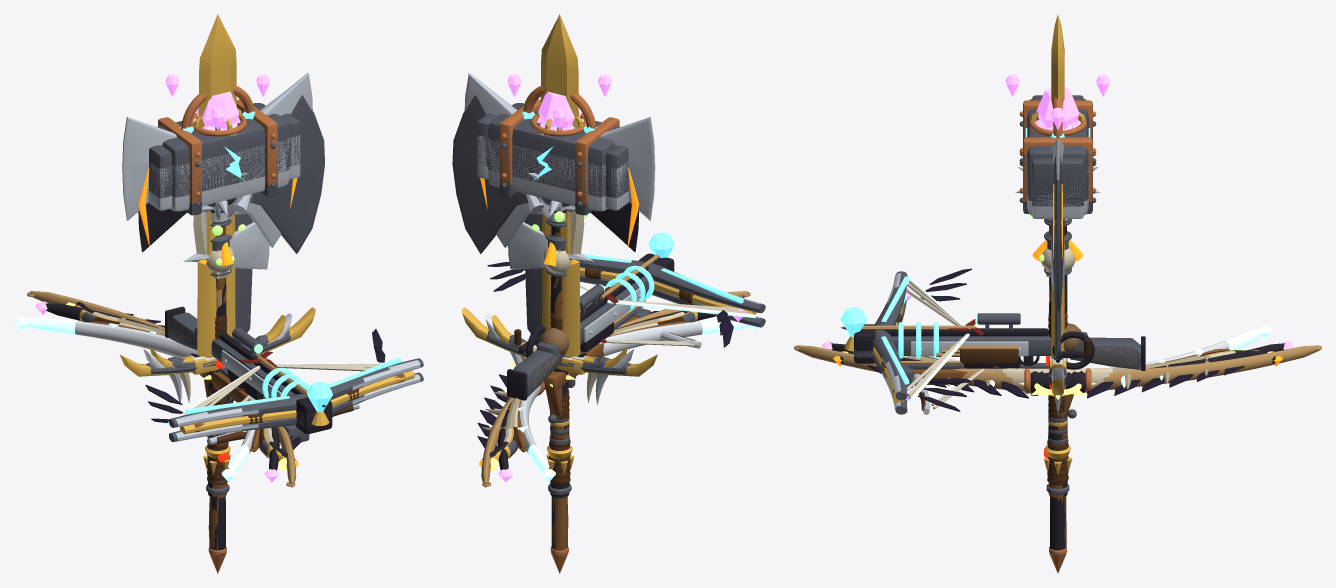
File: forge_weapons-BihwmM35.glb
3 views of the same model, side by side, from view 1: azimuth 30°, elevation 25°; view 2: azimuth 150°, elevation 25°; view 3: azimuth 270°, elevation 25° (orthographic).
Visible parts, largest first — view 1: thunder_hammer__dark, kingslayer__gold, executioner_axe__dark, warhammer__steel, great_axe__steel, heavy_xbow__steel, thunder_hammer__copper, thunder_crossbow__dark, ice_sickle__silver, heavy_xbow__black, hatchet__steel, heavy_xbow__dark (+21 smaller); view 2: thunder_hammer__dark, kingslayer__gold, warhammer__steel, executioner_axe__dark, great_axe__steel, thunder_crossbow__dark, thunder_hammer__copper, heavy_xbow__dark, ice_sickle__silver, heavy_xbow__black, hatchet__steel, archmage_staff__gArcane (+30 smaller); view 3: thunder_hammer__dark, long_bow__woodL, heavy_xbow__dark, heavy_xbow__black, kingslayer__gold, thunder_hammer__copper, archmage_staff__gArcane, thunder_crossbow__dark, night_wing__feather, executioner_axe__dark, heavy_xbow__steel, raven_whisper__feather (+8 smaller).
Part boxes in pixels (x1,y1,x2,y2): thunder_hammer__dark: (149, 103, 300, 495); kingslayer__gold: (119, 14, 315, 474); executioner_axe__dark: (239, 95, 324, 253); warhammer__steel: (148, 135, 300, 211); great_axe__steel: (122, 73, 312, 220); heavy_xbow__steel: (175, 345, 420, 441); thunder_hammer__copper: (158, 99, 277, 203); thunder_crossbow__dark: (169, 358, 423, 441); ice_sickle__silver: (75, 321, 255, 453); heavy_xbow__black: (165, 306, 332, 433); hatchet__steel: (183, 222, 269, 269); heavy_xbow__dark: (168, 312, 326, 407); thunder_hammer__dark: (477, 103, 628, 495); kingslayer__gold: (461, 14, 657, 474); warhammer__steel: (477, 135, 628, 211); executioner_axe__dark: (452, 95, 538, 253); great_axe__steel: (464, 73, 655, 220); thunder_crossbow__dark: (525, 258, 765, 327); thunder_hammer__copper: (500, 99, 619, 203); heavy_xbow__dark: (513, 276, 648, 397); ice_sickle__silver: (520, 321, 702, 453); heavy_xbow__black: (507, 253, 674, 400); hatchet__steel: (508, 222, 594, 269); archmage_staff__gArcane: (508, 74, 611, 134); thunder_hammer__dark: (1027, 95, 1088, 495); long_bow__woodL: (794, 345, 1321, 388); heavy_xbow__dark: (840, 326, 1140, 369); heavy_xbow__black: (854, 324, 1145, 370); kingslayer__gold: (1044, 15, 1071, 474); thunder_hammer__copper: (1019, 100, 1096, 201); archmage_staff__gArcane: (1006, 74, 1109, 130); thunder_crossbow__dark: (873, 271, 907, 414); night_wing__feather: (867, 365, 1244, 398); executioner_axe__dark: (1051, 156, 1064, 310); heavy_xbow__steel: (882, 273, 1028, 410); raven_whisper__feather: (918, 268, 971, 411).
Size of the model in its own units: 1.32 by 2.84 by 2.42.
